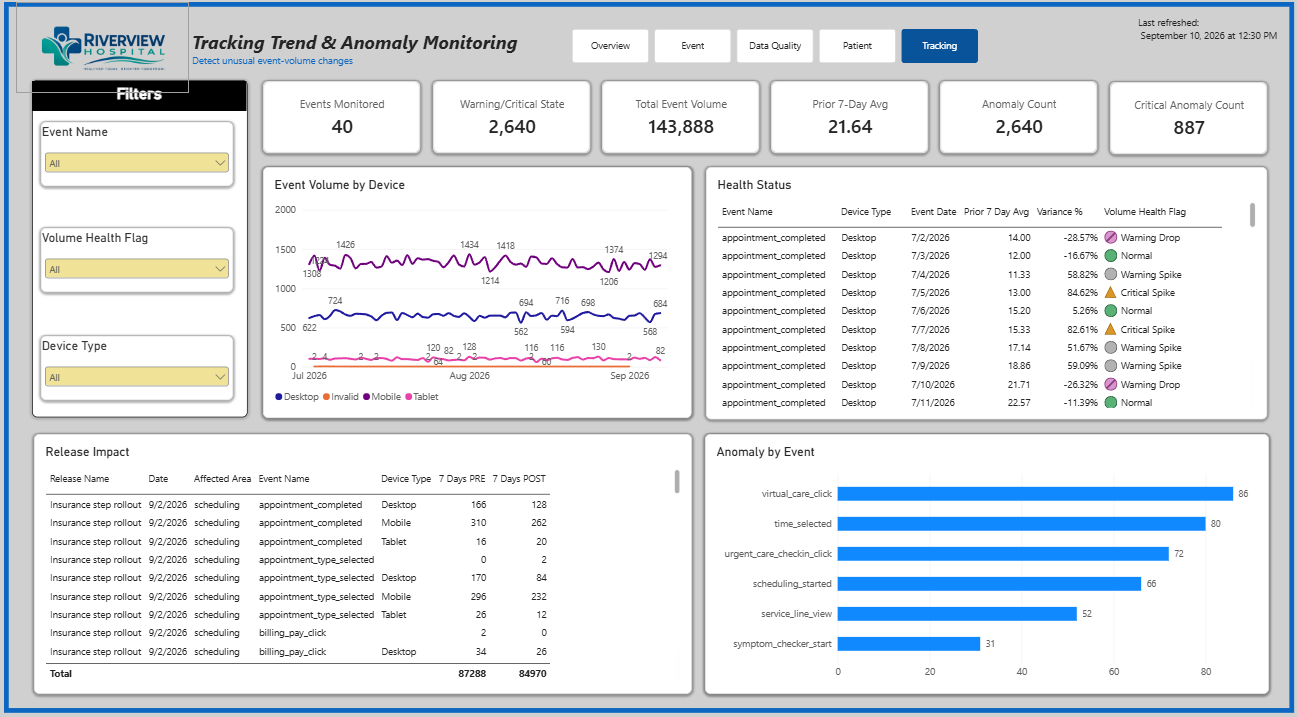

Layout of this report page (visuals, bound fields, positions):
{"tool":"powerbi","page":{"name":"Tracking","canvas":[1920,1080],"ordinal":4},"visuals":[{"type":"shape","box":[18.2,11.6,1896.7,1045],"z":0},{"type":"textbox","box":[58.2,126.4,317,495.5],"z":1000},{"type":"textbox","title":"Filters","box":[59.3,127.9,315.1,44.4],"z":2000},{"type":"textbox","box":[294.4,51.3,502.7,62.8],"z":3000},{"type":"cardVisual","title":"Governed Claim %","fields":{"Data":["reporting vw_DailyEventHealth.Total Event Volume"]},"box":[896.8,128.4,231,106],"z":4000},{"type":"cardVisual","title":"Governed Claim %","fields":{"Data":["reporting vw_DailyEventHealth.Prior 7-Day Avg"]},"box":[1145.6,128.4,231,106],"z":5000},{"type":"cardVisual","title":"Governed Claim %","fields":{"Data":["reporting vw_DailyEventHealth.Anomaly Count"]},"box":[1394.4,128.4,231,106],"z":6000},{"type":"cardVisual","title":"Governed Claim %","fields":{"Data":["reporting vw_DailyEventHealth.Critical Anomaly Count"]},"box":[1643.2,128.7,231,106],"z":7000},{"type":"tableEx","title":"Release Impact","fields":{"Values":["reporting vw_ReleaseImpact.Release_Name","reporting vw_ReleaseImpact.Release_Timestamp","reporting vw_ReleaseImpact.Affected_Area","reporting vw_ReleaseImpact.Event_Name","reporting vw_ReleaseImpact.Device_Type","Sum(reporting vw_ReleaseImpact.Events_7D_Pre)","Sum(reporting vw_ReleaseImpact.Events_7D_Post)"]},"box":[61.2,646.6,967.4,382],"z":8000},{"type":"tableEx","title":"Health Status","fields":{"Values":["reporting vw_DailyEventHealth.Event_Name","reporting vw_DailyEventHealth.Device_Type","reporting vw_DailyEventHealth.Event_Date","Sum(reporting vw_DailyEventHealth.Prior_7_Day_Avg)","Sum(reporting vw_DailyEventHealth.Variance_Pct)","reporting vw_DailyEventHealth.Volume_Health_Flag"]},"box":[1049.1,254.8,824.6,371.2],"z":9000},{"type":"clusteredBarChart","title":"Anomaly by Event","fields":{"Category":["reporting vw_DailyEventHealth.Event_Name"],"Y":["reporting vw_DailyEventHealth.Anomaly Count"]},"box":[1048.5,646.6,828.5,382],"z":10000},{"type":"image","box":[35,11.7,255,133.3],"z":11000},{"type":"pageNavigator","box":[852.3,51.9,600,50],"z":12000},{"type":"textbox","box":[1684.4,32.7,210.6,61.7],"z":13000},{"type":"lineChart","title":"Event Volume by Device","fields":{"Category":["reporting vw_DailyEventHealth.Event_Date"],"Series":["reporting vw_DailyEventHealth.Device_Type"],"Y":["Sum(reporting vw_DailyEventHealth.Event_Count)"]},"box":[398.6,254.7,630.1,368.8],"z":14000},{"type":"slicer","title":"Event Name","fields":{"Values":["reporting vw_DailyEventHealth.Event_Name"]},"box":[72,188,282,94.3],"z":15000},{"type":"slicer","title":"Device Type","fields":{"Values":["reporting vw_DailyEventHealth.Device_Type"]},"box":[72,503,282,94.3],"z":16000},{"type":"slicer","title":"Volume Health Flag","fields":{"Values":["reporting vw_DailyEventHealth.Volume_Health_Flag"]},"box":[72,344,282,94.3],"z":17000},{"type":"cardVisual","title":"Governed Claim %","fields":{"Data":["reporting vw_DailyEventHealth.Events in Warning/Critical State"]},"box":[648,128.4,231,106.3],"z":18000},{"type":"cardVisual","title":"Governed Claim %","fields":{"Data":["reporting vw_DailyEventHealth.Events Monitored"]},"box":[398,128.4,231,106.3],"z":19000}]}

Visuals, with their boxes in screenshot pixels (x1, y1, x2, y2), scaled from the page's 1920x1080 canvas onto the 1297x717 screenshot:
shape: 12/8/1294/701
textbox: 39/84/253/413
"Filters" textbox: 40/85/253/114
textbox: 199/34/538/76
"Governed Claim %" cardVisual: 606/85/762/156
"Governed Claim %" cardVisual: 774/85/930/156
"Governed Claim %" cardVisual: 942/85/1098/156
"Governed Claim %" cardVisual: 1110/85/1266/156
"Release Impact" tableEx: 41/429/695/683
"Health Status" tableEx: 709/169/1266/416
"Anomaly by Event" clusteredBarChart: 708/429/1268/683
image: 24/8/196/96
pageNavigator: 576/34/981/68
textbox: 1138/22/1280/63
"Event Volume by Device" lineChart: 269/169/695/414
"Event Name" slicer: 49/125/239/187
"Device Type" slicer: 49/334/239/397
"Volume Health Flag" slicer: 49/228/239/291
"Governed Claim %" cardVisual: 438/85/594/156
"Governed Claim %" cardVisual: 269/85/425/156
